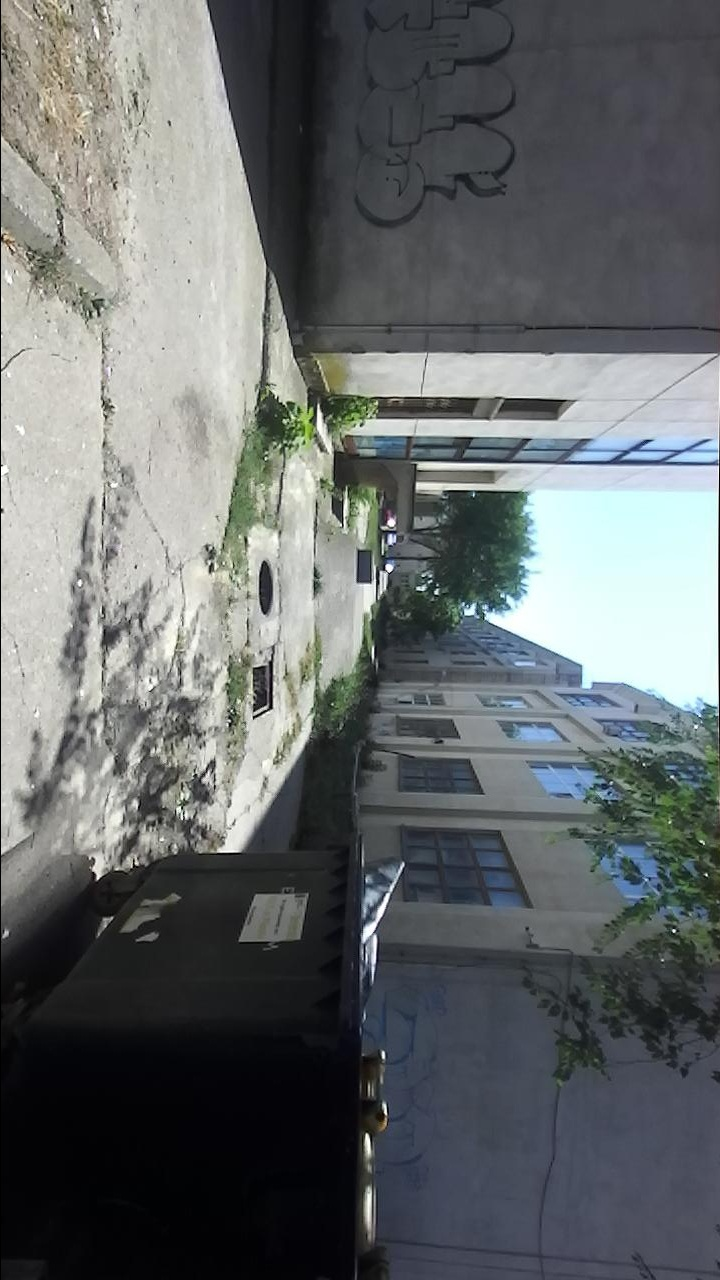drain: (245, 653, 280, 724), (254, 553, 279, 622)
